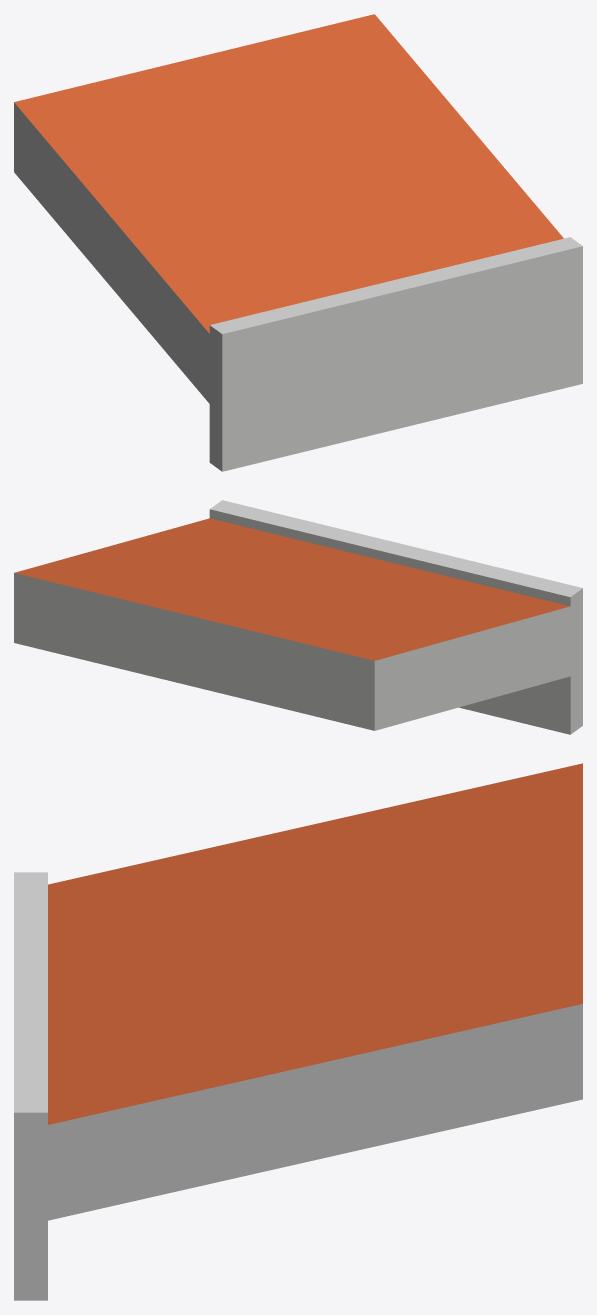
Rendered from telhado_beiral_i25_0_5m.glb.
3 renders of one model, top to bottom at view 1: azimuth 30°, elevation 25°; view 2: azimuth 150°, elevation 25°; view 3: azimuth 270°, elevation 25°, orthographic. The views are drawn at different scales.
Parts seen in each view (by area): view 1: telhado_beiral_i25_0_5m; view 2: telhado_beiral_i25_0_5m; view 3: telhado_beiral_i25_0_5m.
Boxes of the visible parts, left/top/right/bottom form: telhado_beiral_i25_0_5m: left=14, top=14, right=582, bottom=471; telhado_beiral_i25_0_5m: left=14, top=500, right=582, bottom=734; telhado_beiral_i25_0_5m: left=14, top=763, right=582, bottom=1300.
Bounding box in the file's own units: 0.5 × 0.2878 × 0.5.
